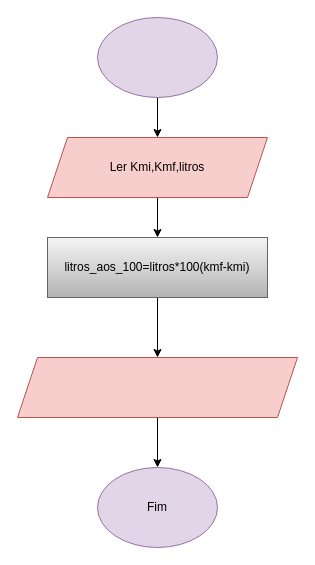
The diagram is 315 pixels wide and 565 high, and some of its shapes have lost their labels. Here are the shapes that lost their labels. From the top down, the centre of each, then its label:
At [157,57]: "Inicio".
At [157,387]: "Escrver litros_aos_100".
